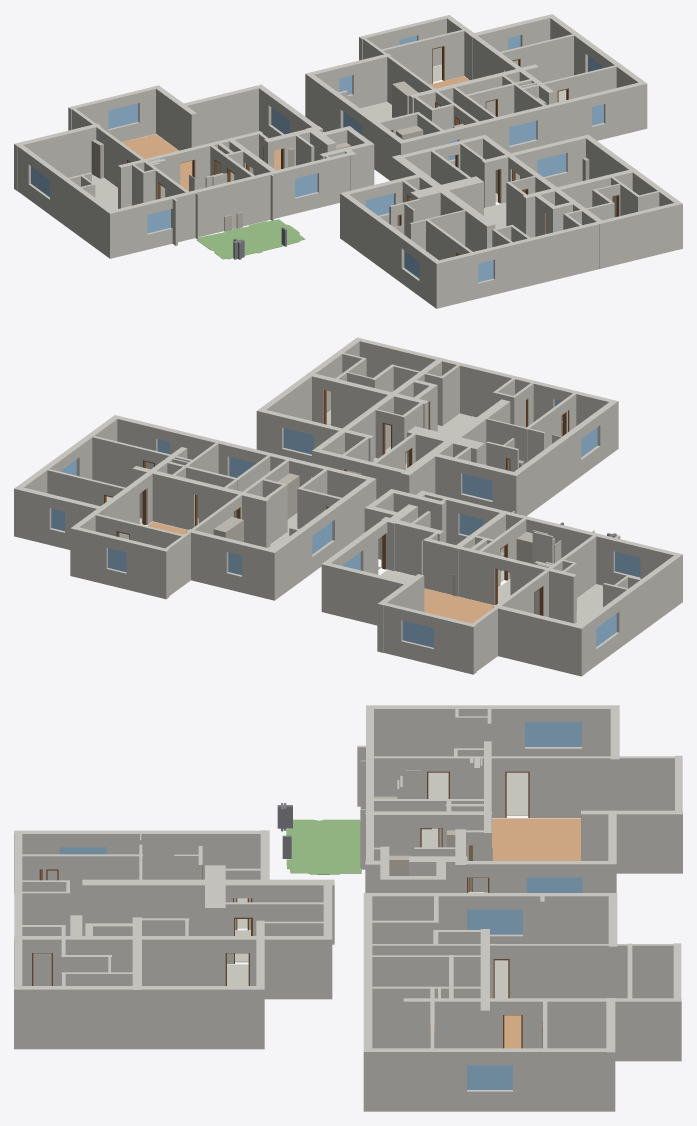
3 renders of one model, top to bottom at view 1: azimuth 30°, elevation 25°; view 2: azimuth 150°, elevation 25°; view 3: azimuth 270°, elevation 25°, orthographic. The views are drawn at different scales.
Parts seen in each view (by area): view 1: walls, floor_33_Outdoor, floor_0_Living_Room, furniture_1_closet, floor_4_Undefined, window_33, window_12, window_28, furniture_0_closet, window_9; view 2: walls, floor_0_Living_Room, floor_4_Undefined, window_33, window_12, window_23, furniture_1_closet, furniture_10_closet, furniture_11_closet, window_9; view 3: walls, floor_33_Outdoor, floor_0_Living_Room, floor_4_Undefined, window_3, window_5, window_2, window_0, floor_20_Undefined, railings, floor_3_Living_Room.
Part boxes in pixels (left/top/right/bottom): walls: left=14, top=14, right=682, bottom=308; floor_33_Outdoor: left=197, top=219, right=305, bottom=259; floor_0_Living_Room: left=122, top=134, right=280, bottom=191; furniture_1_closet: left=392, top=81, right=418, bottom=117; floor_4_Undefined: left=92, top=174, right=117, bottom=210; window_33: left=108, top=103, right=138, bottom=128; window_12: left=537, top=153, right=566, bottom=176; window_28: left=509, top=121, right=536, bottom=145; furniture_0_closet: left=91, top=139, right=103, bottom=178; window_9: left=147, top=209, right=170, bottom=233; walls: left=14, top=337, right=682, bottom=676; floor_0_Living_Room: left=424, top=588, right=494, bottom=623; floor_4_Undefined: left=575, top=584, right=602, bottom=624; window_33: left=402, top=620, right=433, bottom=647; window_12: left=283, top=428, right=314, bottom=454; window_23: left=462, top=473, right=492, bottom=500; furniture_1_closet: left=213, top=517, right=243, bottom=541; furniture_10_closet: left=278, top=473, right=299, bottom=519; furniture_11_closet: left=516, top=531, right=555, bottom=563; window_9: left=615, top=551, right=640, bottom=577; walls: left=14, top=705, right=682, bottom=1111; floor_33_Outdoor: left=286, top=819, right=361, bottom=874; floor_0_Living_Room: left=492, top=818, right=580, bottom=860; floor_4_Undefined: left=428, top=772, right=528, bottom=815; window_3: left=525, top=722, right=581, bottom=746; window_5: left=467, top=909, right=522, bottom=934; window_2: left=467, top=1065, right=512, bottom=1089; window_0: left=526, top=877, right=582, bottom=892; floor_20_Undefined: left=70, top=916, right=248, bottom=985; railings: left=277, top=803, right=431, bottom=858; floor_3_Living_Room: left=504, top=1015, right=521, bottom=1048.
Size of the model in its own units: 33.72 by 2.72 by 27.48.
